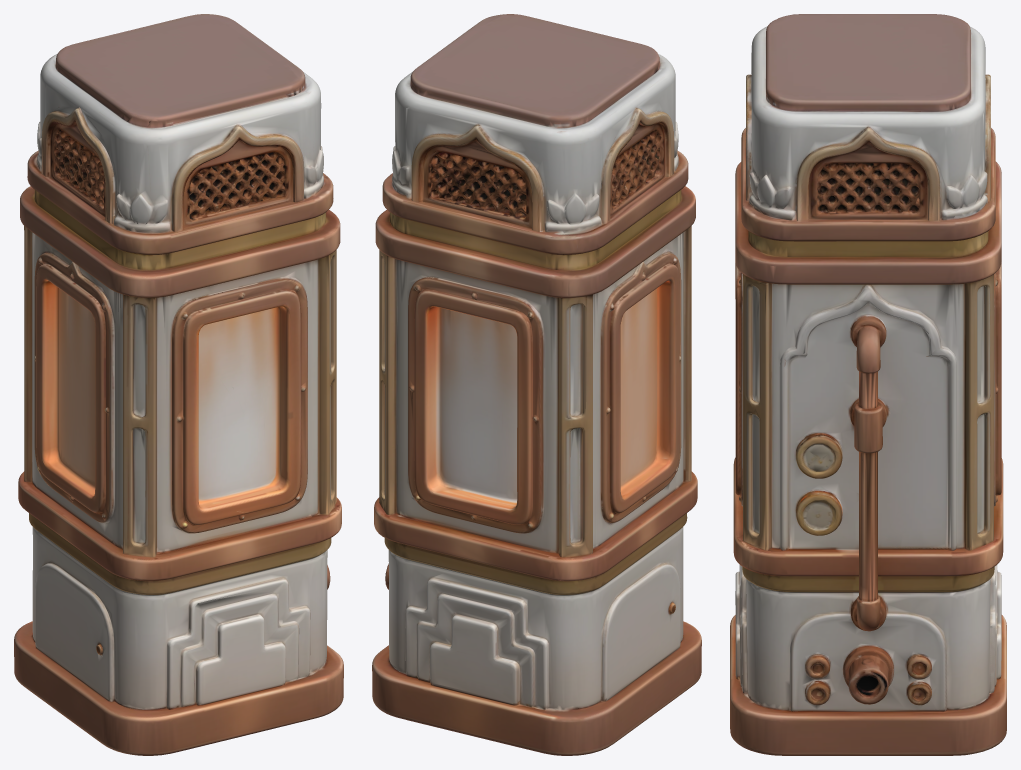
Rendered from silicon_furnace.glb.
3 views of the same model, side by side, from view 1: azimuth 30°, elevation 25°; view 2: azimuth 150°, elevation 25°; view 3: azimuth 270°, elevation 25° (orthographic). The views are drawn at different scales.
Visible parts, largest first — view 1: node_0; view 2: node_0; view 3: node_0.
Boxes of the visible parts, x1,y1,x2,y2 form: node_0: (14, 14, 343, 755); node_0: (372, 14, 701, 755); node_0: (730, 14, 1006, 755).
Size of the model in its own units: 0.4678 by 1.07 by 0.4167.
Materials: 1 (1 with a texture image).
